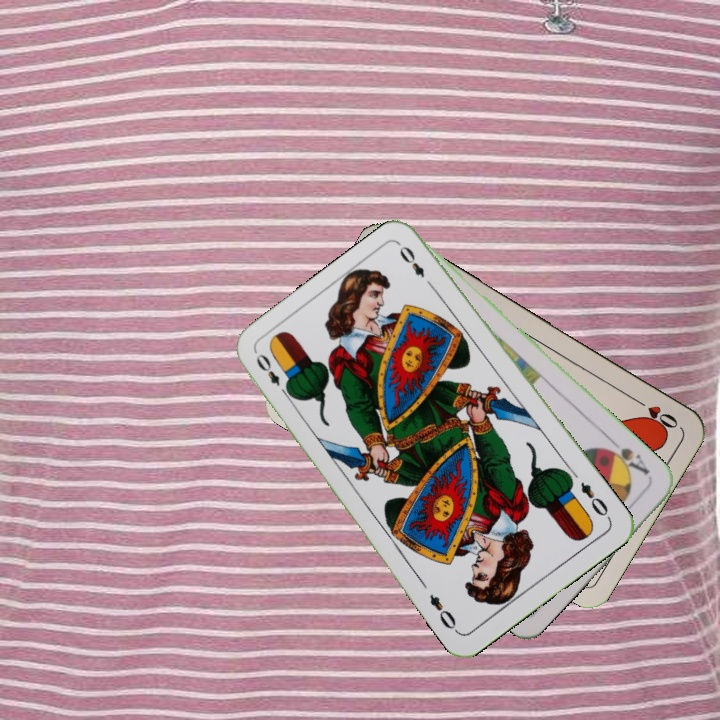EO: (251, 349, 293, 401), (576, 478, 614, 522)
HO: (629, 393, 681, 432)
SA: (600, 435, 653, 478)
